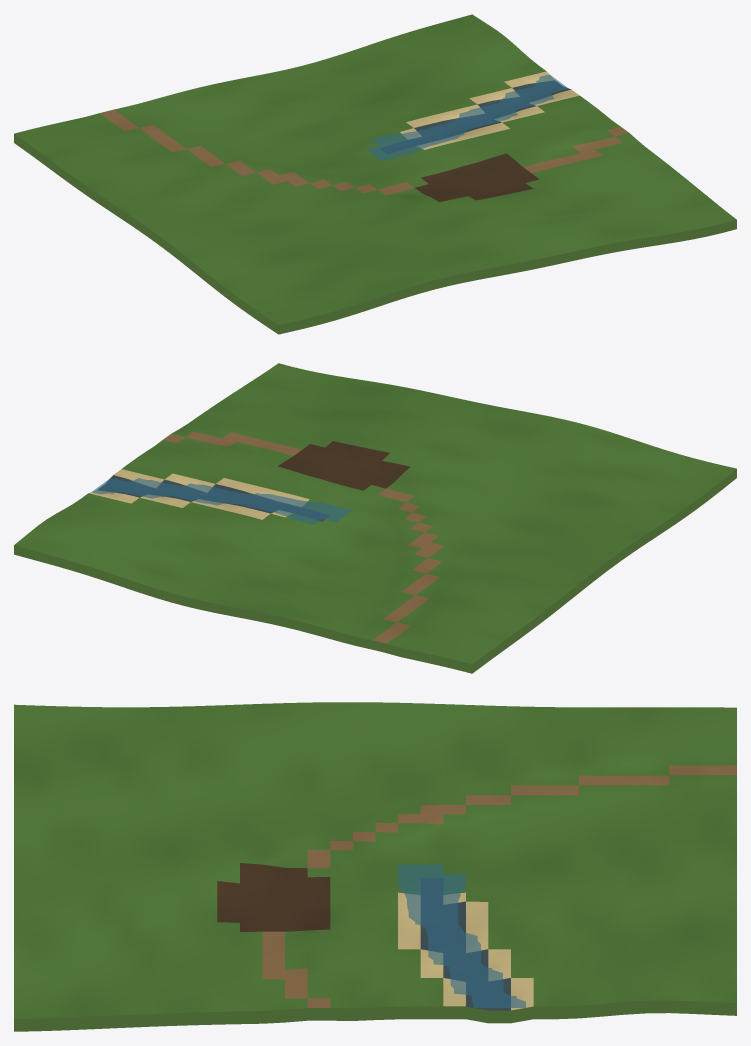
File: chunk_0_1_lod1.glb
3 views of the same model, one above another, from view 1: azimuth 30°, elevation 25°; view 2: azimuth 150°, elevation 25°; view 3: azimuth 270°, elevation 25° (orthographic). The views are drawn at different scales.
Parts seen in each view (by area): view 1: Surface_Grass, Skirt, Water, Surface_Dirt, Surface_Mud, Surface_Water, Surface_Sand; view 2: Surface_Grass, Skirt, Water, Surface_Mud, Surface_Dirt, Surface_Sand, Surface_Water; view 3: Surface_Grass, Skirt, Water, Surface_Dirt, Surface_Mud, Surface_Water, Surface_Sand.
Part boxes in pixels (x1,y1,x2,y2): Surface_Grass: (14,14,736,324); Skirt: (14,134,736,334); Water: (365,74,568,160); Surface_Dirt: (100,109,628,195); Surface_Mud: (415,153,539,201); Surface_Water: (380,80,571,153); Surface_Sand: (400,71,579,149); Surface_Grass: (14,363,736,664); Skirt: (14,469,736,673); Water: (92,478,352,524); Surface_Mud: (278,441,410,490); Surface_Dirt: (163,431,444,643); Surface_Sand: (89,469,309,519); Surface_Water: (97,475,329,521); Surface_Grass: (14,702,736,1018); Skirt: (14,1000,736,1031); Water: (398,864,525,1007); Surface_Dirt: (262,765,736,1007); Surface_Mud: (217,863,330,931); Surface_Water: (420,878,510,1010); Surface_Sand: (398,892,533,1010).
Size of the model in its own units: 256 by 12.47 by 256.
